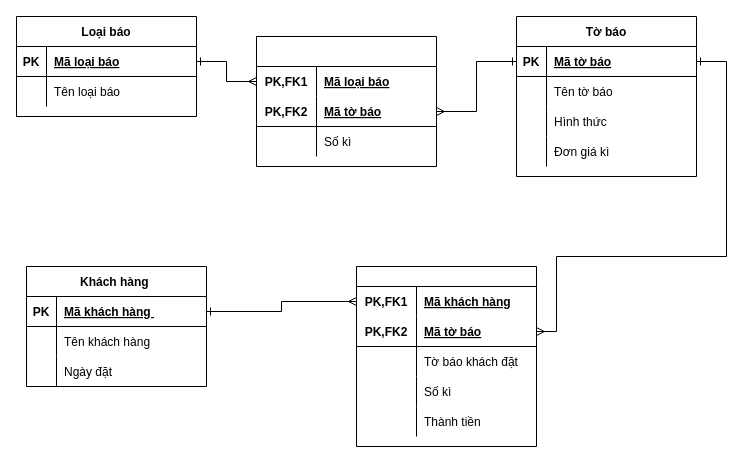
This 743x463 diagram has some shape labels left out. The shapes that lost their labels are listed below. From the top down, each one's box as (x1, y1, x2, y2) in pixels, then its label:
(256, 36, 436, 166): Loại báo_tờ báo
(356, 266, 536, 446): Đơn đặt
